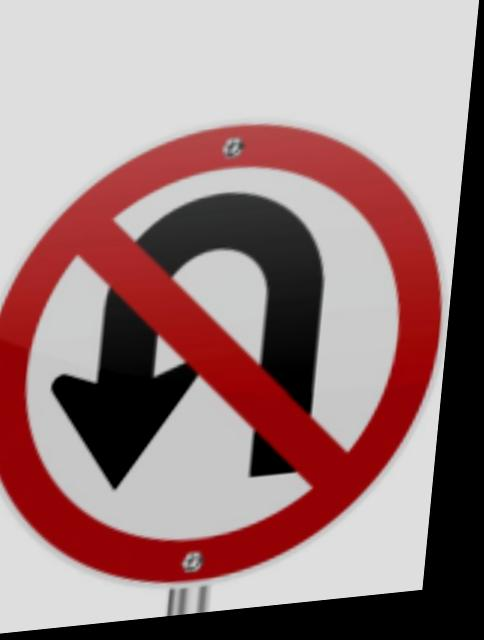not_u_turn_left: (0, 100, 469, 609)
